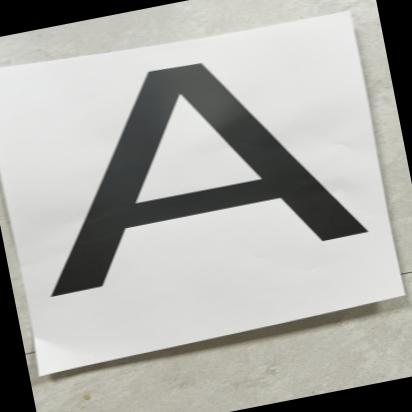seat: (0, 23, 381, 311)
